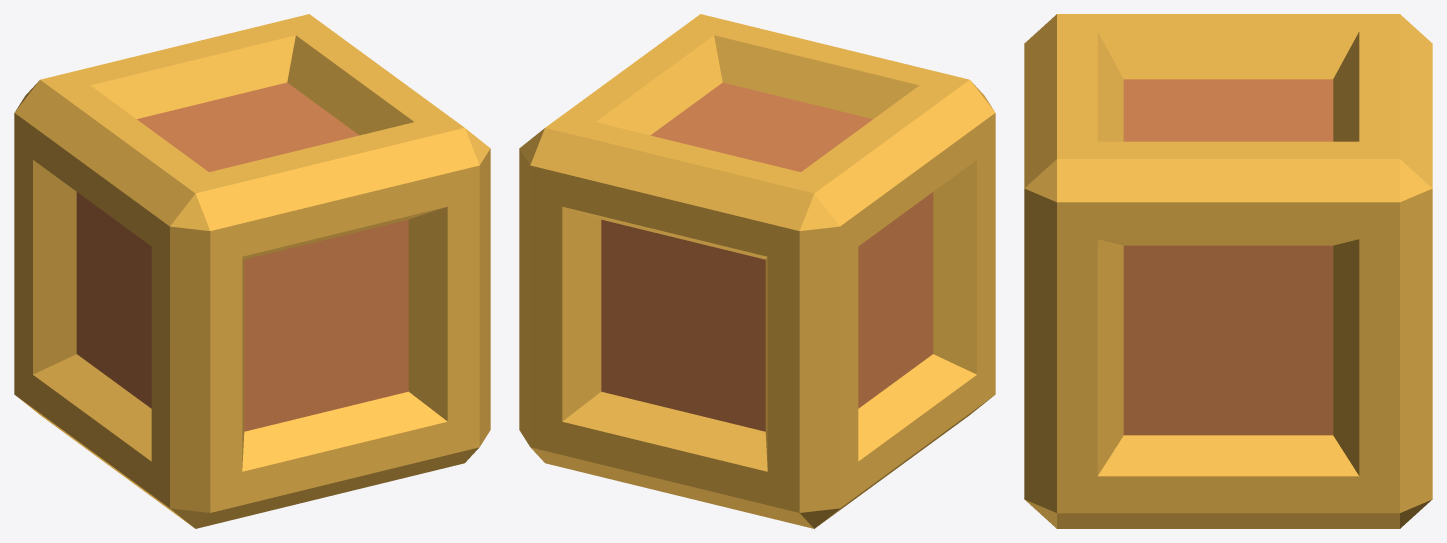
Rendered from crateItem.fbx.
The picture shows the model from 3 angles, left to right: view 1: azimuth 30°, elevation 25°; view 2: azimuth 150°, elevation 25°; view 3: azimuth 270°, elevation 25°; orthographic projection. The views are drawn at different scales.
Parts seen in each view (by area): view 1: crateItem; view 2: crateItem; view 3: crateItem.
Part boxes in pixels (x1,y1,x2,y2): crateItem: (14,14,490,528); crateItem: (519,14,995,528); crateItem: (1024,14,1432,528).
Bounding box in the file's own units: 5 × 5 × 5.
